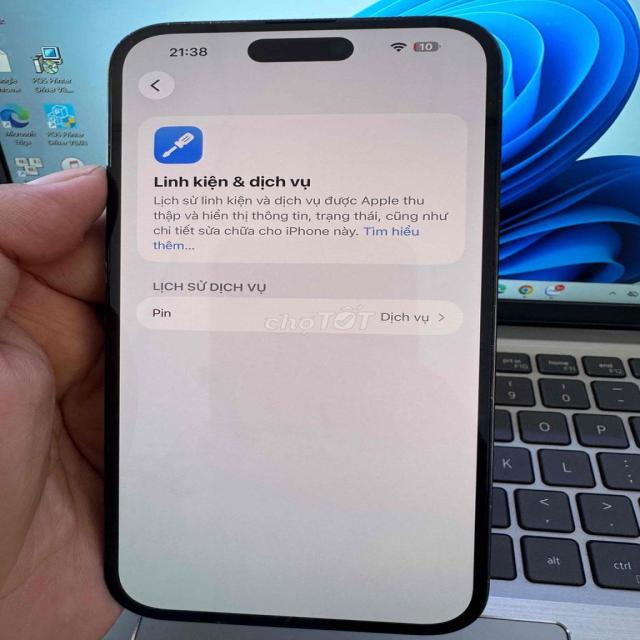gen_14: (98, 16, 498, 621)
